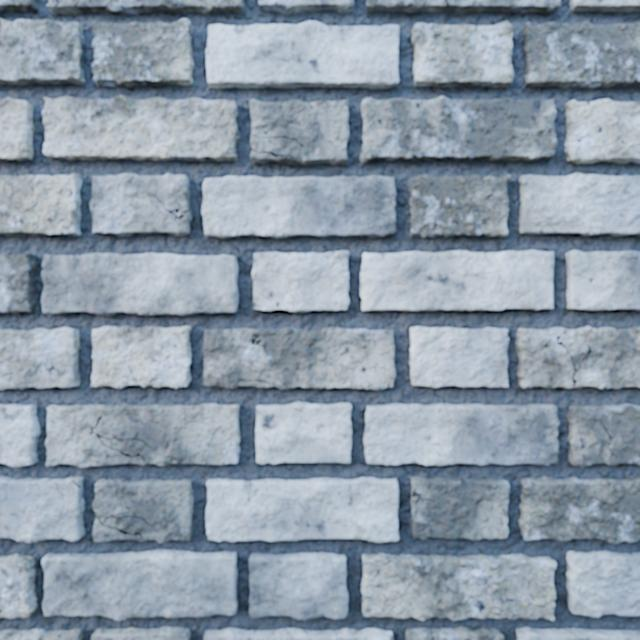crack: (41, 550, 237, 620), (42, 95, 240, 161), (361, 553, 556, 620), (360, 96, 557, 162), (206, 21, 399, 88), (206, 477, 398, 542), (45, 403, 240, 467), (41, 253, 238, 316), (363, 403, 559, 465), (203, 327, 395, 390), (202, 176, 396, 238), (360, 250, 553, 311), (518, 477, 639, 544), (523, 21, 639, 88), (515, 326, 639, 388), (519, 173, 639, 236), (92, 19, 193, 87), (412, 21, 513, 87), (249, 553, 348, 620), (249, 99, 348, 165), (89, 173, 192, 236), (409, 174, 510, 237), (410, 476, 509, 540), (93, 479, 193, 542), (91, 326, 191, 388), (410, 326, 508, 387), (252, 251, 349, 312), (256, 402, 351, 464), (0, 19, 85, 85), (0, 476, 84, 542), (0, 174, 81, 236), (0, 327, 79, 389), (566, 551, 639, 617), (564, 99, 639, 163), (567, 404, 639, 466), (566, 251, 639, 311), (47, 0, 244, 15), (366, 0, 560, 14), (0, 404, 40, 466), (0, 554, 37, 618), (0, 253, 36, 313), (0, 97, 33, 160), (204, 628, 392, 639), (516, 627, 639, 639), (259, 0, 353, 14), (91, 626, 190, 639), (405, 627, 503, 639), (570, 0, 639, 12), (0, 629, 82, 639), (0, 0, 37, 12)
